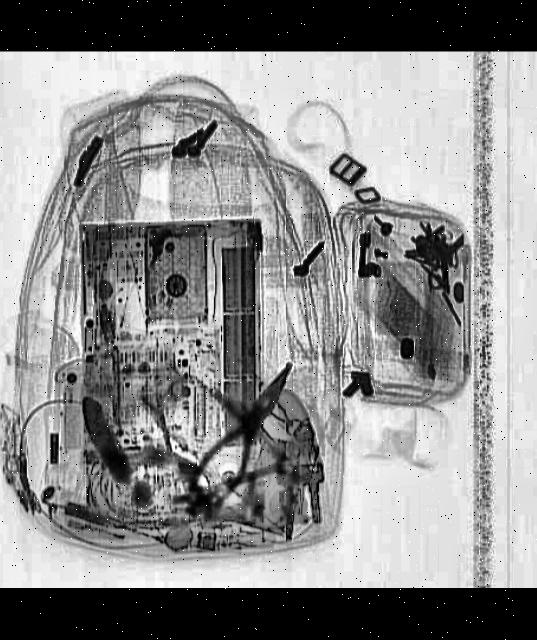Pliers: (184, 352, 310, 506)
